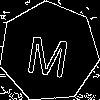M: (24, 27, 73, 78)
